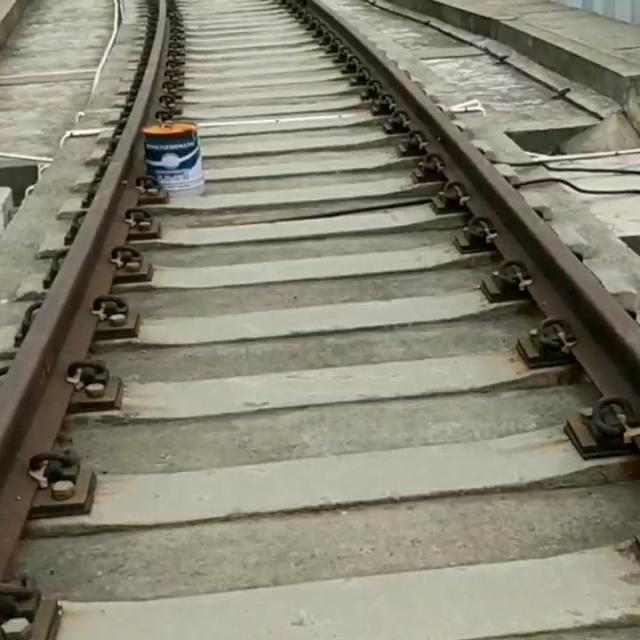danger: (132, 111, 217, 202)
rail: (307, 0, 640, 424), (0, 0, 170, 580)
